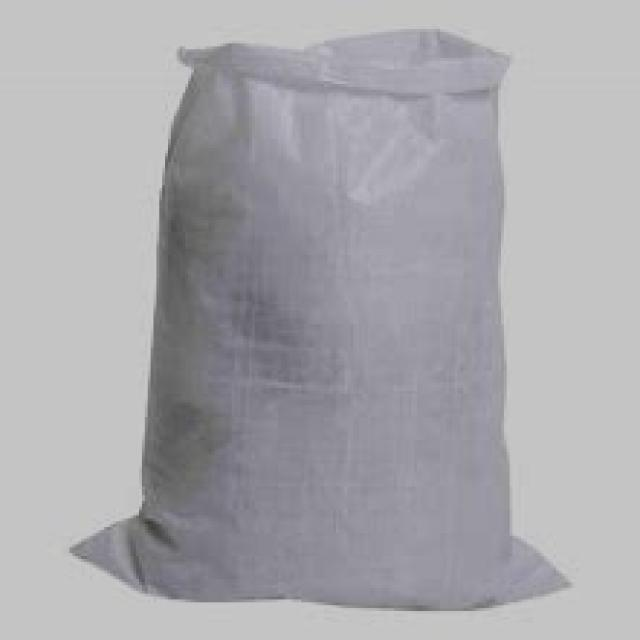gunny_bag: (61, 29, 589, 621)
